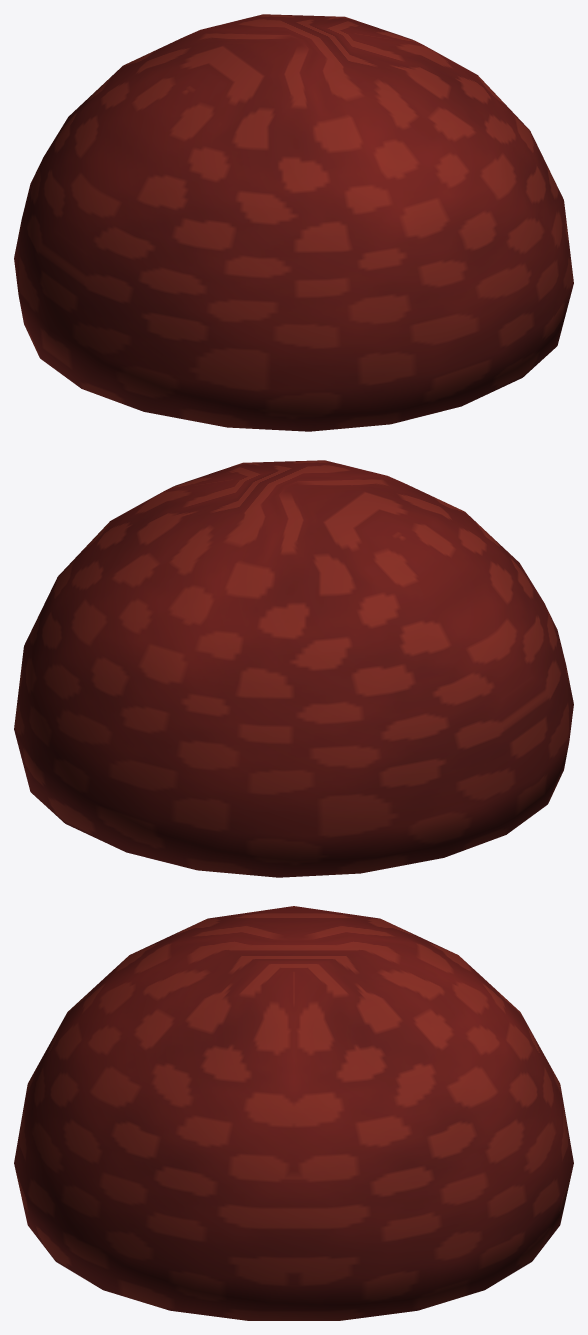
File: aa_hedge_red.fbx
3 renders of one model, top to bottom at view 1: azimuth 30°, elevation 25°; view 2: azimuth 150°, elevation 25°; view 3: azimuth 270°, elevation 25°, orthographic.
Parts seen in each view (by area): view 1: Asset_Hedge_Red_Unit; view 2: Asset_Hedge_Red_Unit; view 3: Asset_Hedge_Red_Unit.
Part boxes in pixels (box(x1,y1,x2,y2)): Asset_Hedge_Red_Unit: box(14, 14, 573, 431); Asset_Hedge_Red_Unit: box(14, 460, 573, 877); Asset_Hedge_Red_Unit: box(14, 906, 573, 1320).
Size of the model in its own units: 2 by 1.08 by 2.
1 material, 1 textured.
